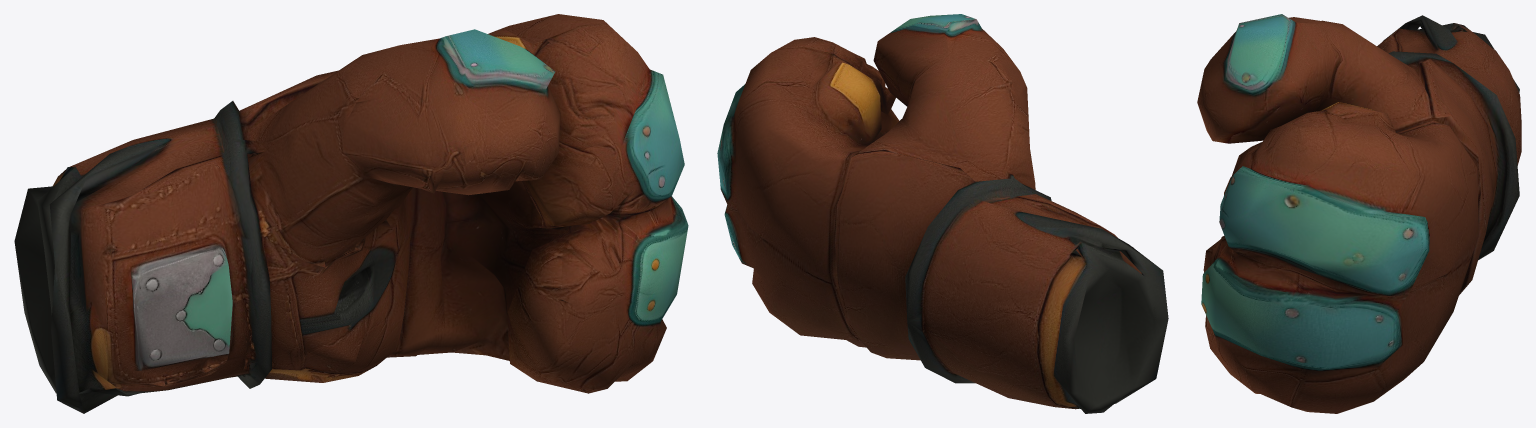
Rendered from weapon_fist_1500.glb.
3 renders of one model, left to right at view 1: azimuth 30°, elevation 25°; view 2: azimuth 150°, elevation 25°; view 3: azimuth 270°, elevation 25°, orthographic. The views are drawn at different scales.
Visible parts, largest first — view 1: tripo_node_67338cab-5d68-49d0-b82e-d7173b47fc7e; view 2: tripo_node_67338cab-5d68-49d0-b82e-d7173b47fc7e; view 3: tripo_node_67338cab-5d68-49d0-b82e-d7173b47fc7e.
Boxes of the visible parts, left/top/right/bottom form: tripo_node_67338cab-5d68-49d0-b82e-d7173b47fc7e: left=14, top=14, right=688, bottom=413; tripo_node_67338cab-5d68-49d0-b82e-d7173b47fc7e: left=717, top=14, right=1168, bottom=413; tripo_node_67338cab-5d68-49d0-b82e-d7173b47fc7e: left=1197, top=14, right=1521, bottom=413.
Size of the model in its own units: 0.9764 by 0.6251 by 0.5637.
Materials: 1 (1 with a texture image).
